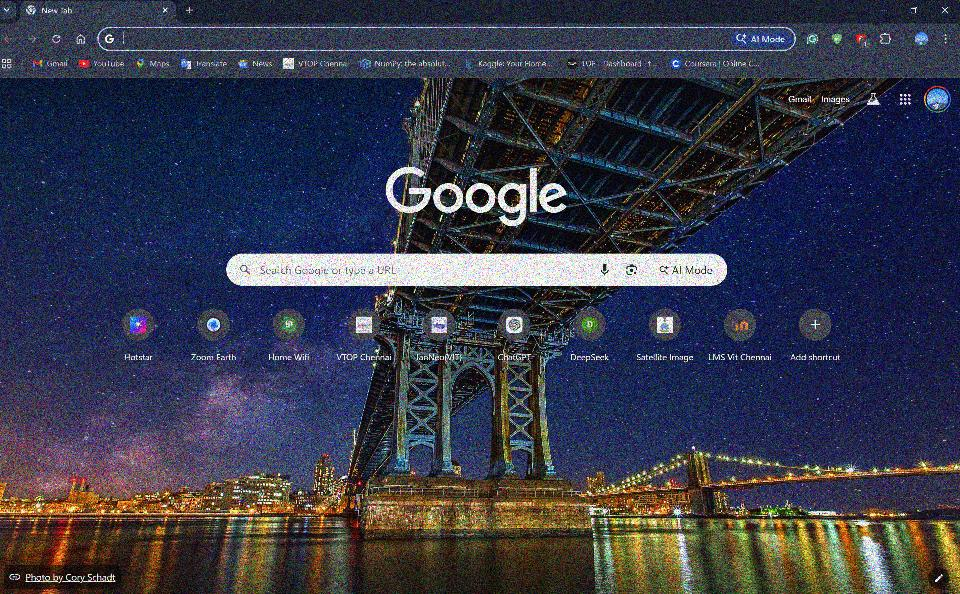close_button: (932, 0, 954, 22)
maximize_button: (904, 0, 925, 24), (960, 185, 960, 185)
minimize_button: (871, 0, 891, 22)
